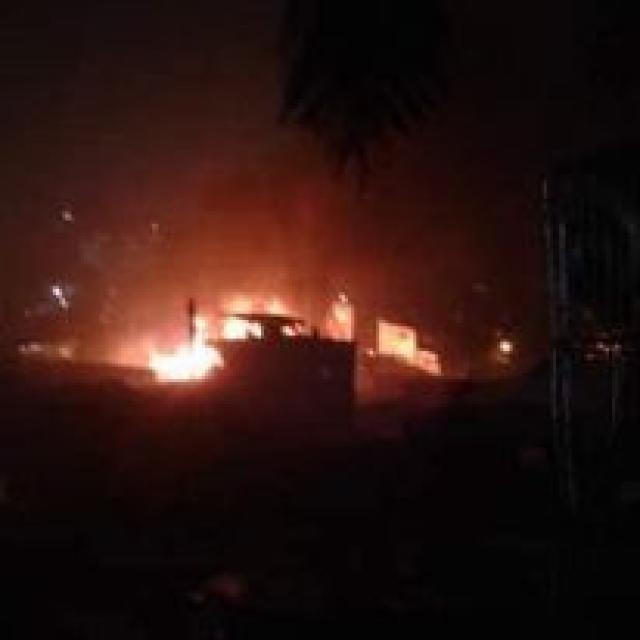Fire: (148, 315, 223, 393), (224, 286, 298, 348)
